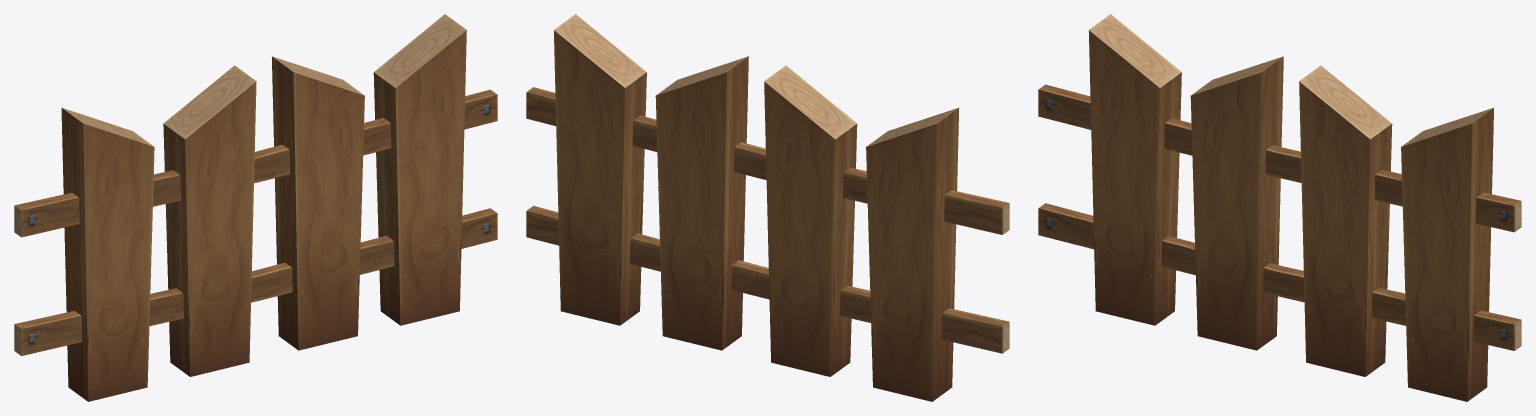
Rendered from wooden_fence_02.fbx.
3 renders of one model, left to right at view 1: azimuth 30°, elevation 25°; view 2: azimuth 150°, elevation 25°; view 3: azimuth 330°, elevation 25°, orthographic.
Parts seen in each view (by area): view 1: wooden_fence_02:Mesh; view 2: wooden_fence_02:Mesh; view 3: wooden_fence_02:Mesh.
Part boxes in pixels (x1=…): wooden_fence_02:Mesh: x1=14, y1=14, x2=497, y2=401; wooden_fence_02:Mesh: x1=526, y1=14, x2=1009, y2=401; wooden_fence_02:Mesh: x1=1038, y1=14, x2=1521, y2=401.
Bounding box in the file's own units: 5.57 × 3.14 × 0.4425.
